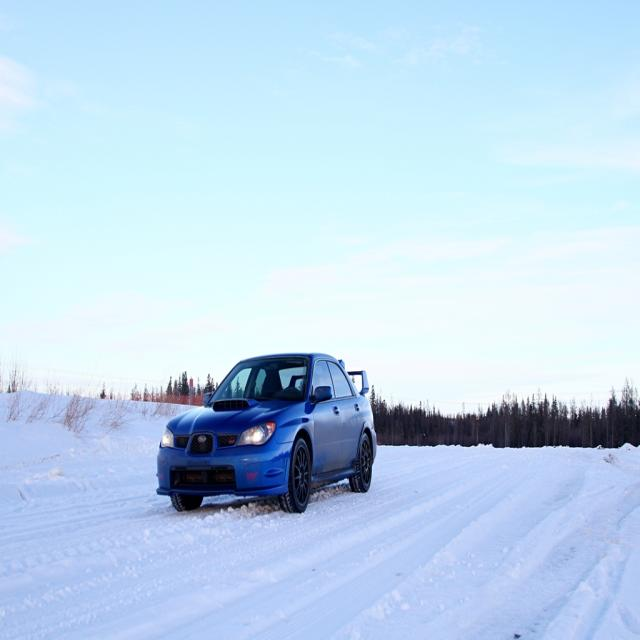car: (156, 350, 376, 514)
